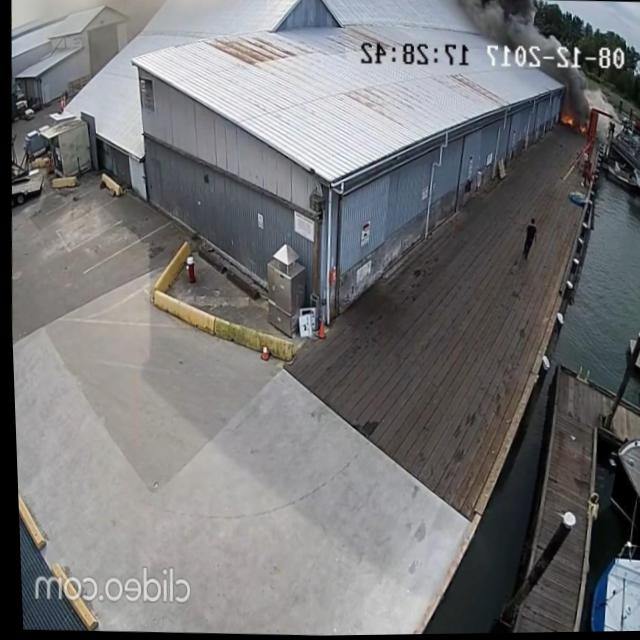fire: (558, 116, 574, 130)
